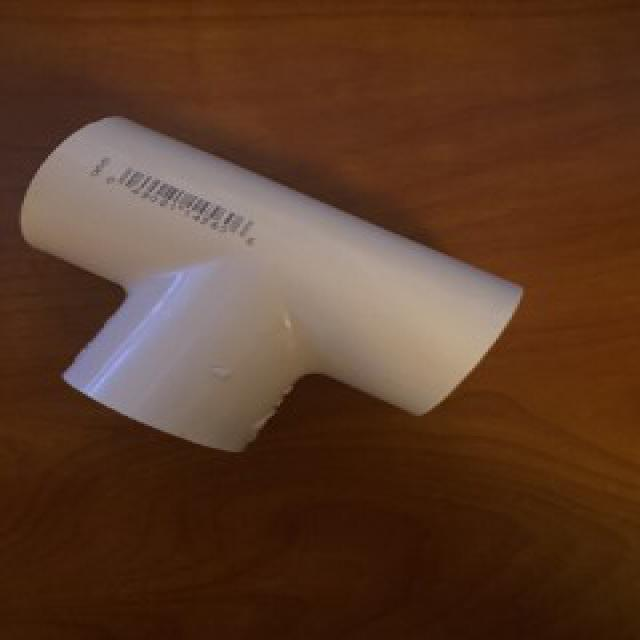T Joint: (18, 116, 525, 456)
